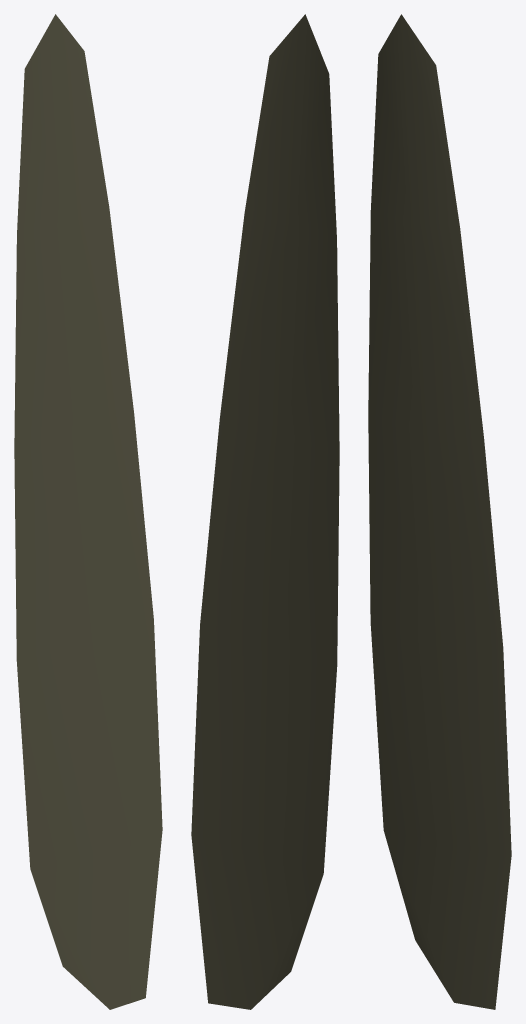
File: finch_feather_flight_primary_006.obj
3 views of the same model, side by side, from view 1: azimuth 30°, elevation 25°; view 2: azimuth 150°, elevation 25°; view 3: azimuth 330°, elevation 25° (orthographic). The views are drawn at different scales.
Visible parts, largest first — view 1: feather_flight_primary_006; view 2: feather_flight_primary_006; view 3: feather_flight_primary_006.
Boxes of the visible parts, x1,y1,x2,y2 form: feather_flight_primary_006: (14,14,162,1009); feather_flight_primary_006: (191,14,339,1009); feather_flight_primary_006: (368,14,511,1009).
Bounding box in the file's own units: 0.00824 × 0.0536 × 0.000337.
